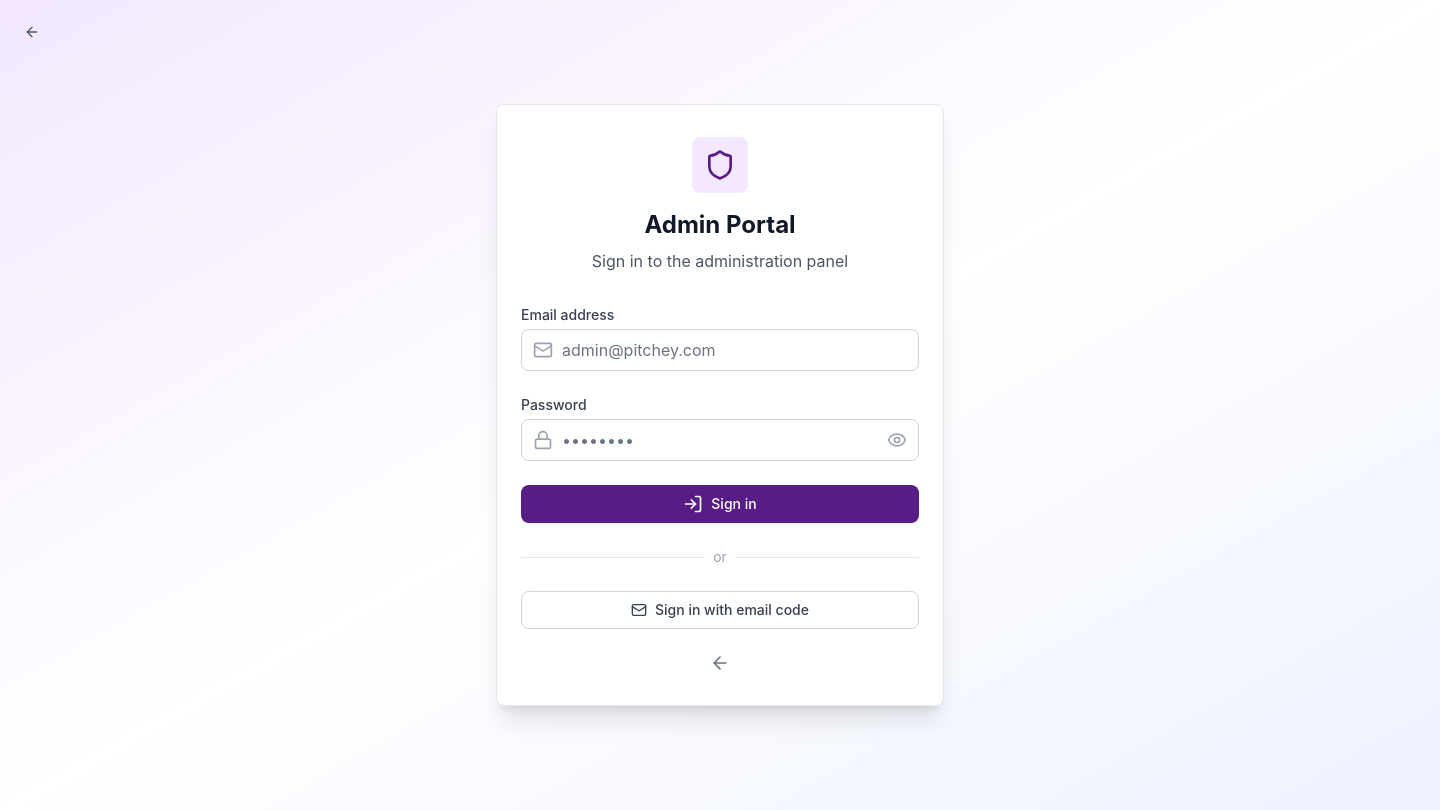
Test: AdminLogin › Error display › displays auth error set locally (non-admin rejection)
In the field labelled "Email address": (720, 350) [521,329,919,371], type "prod@example.com"
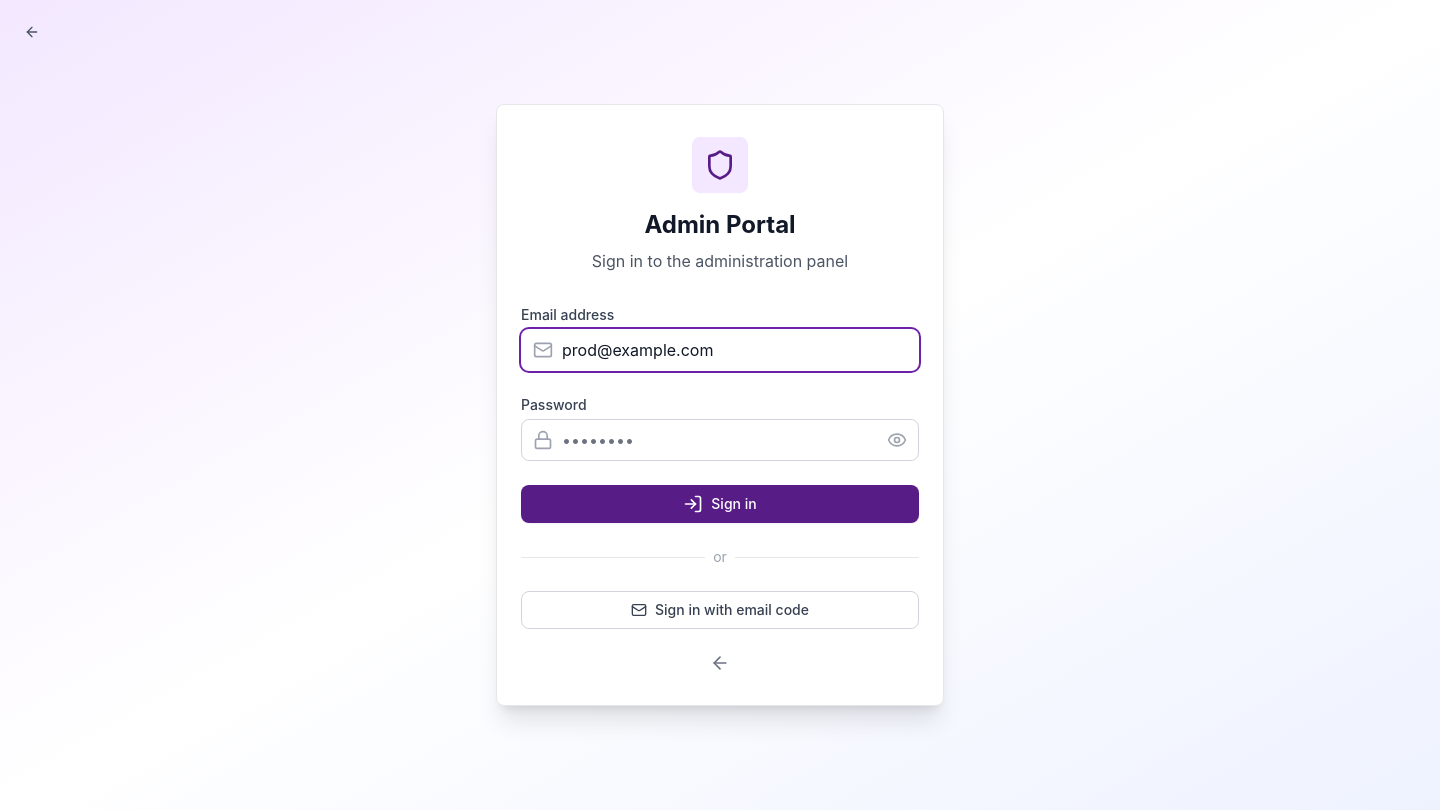
In the password field labelled "Password": (720, 440) [521,419,919,461], type "password"
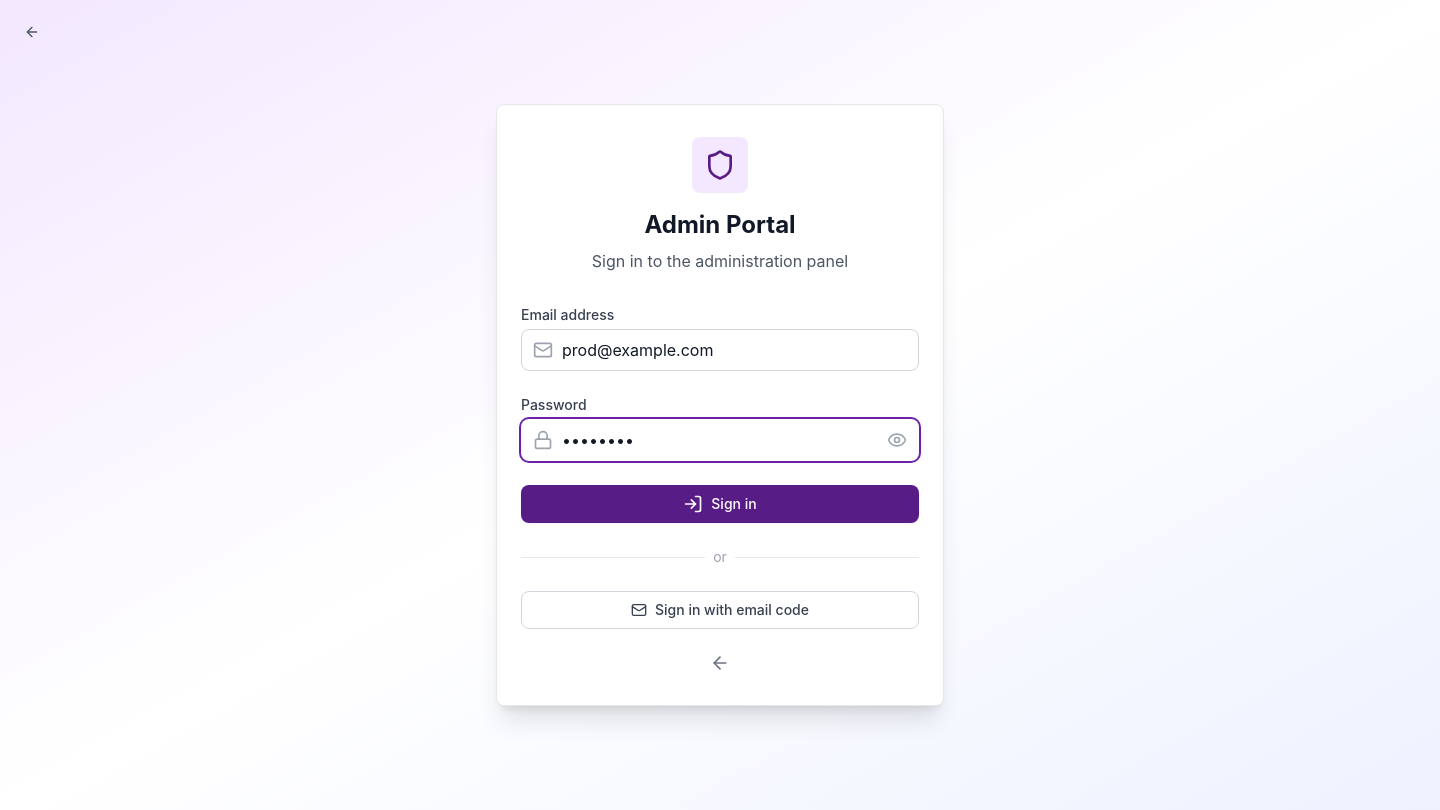
Click the button "Sign in": (720, 504) [521,485,919,523]
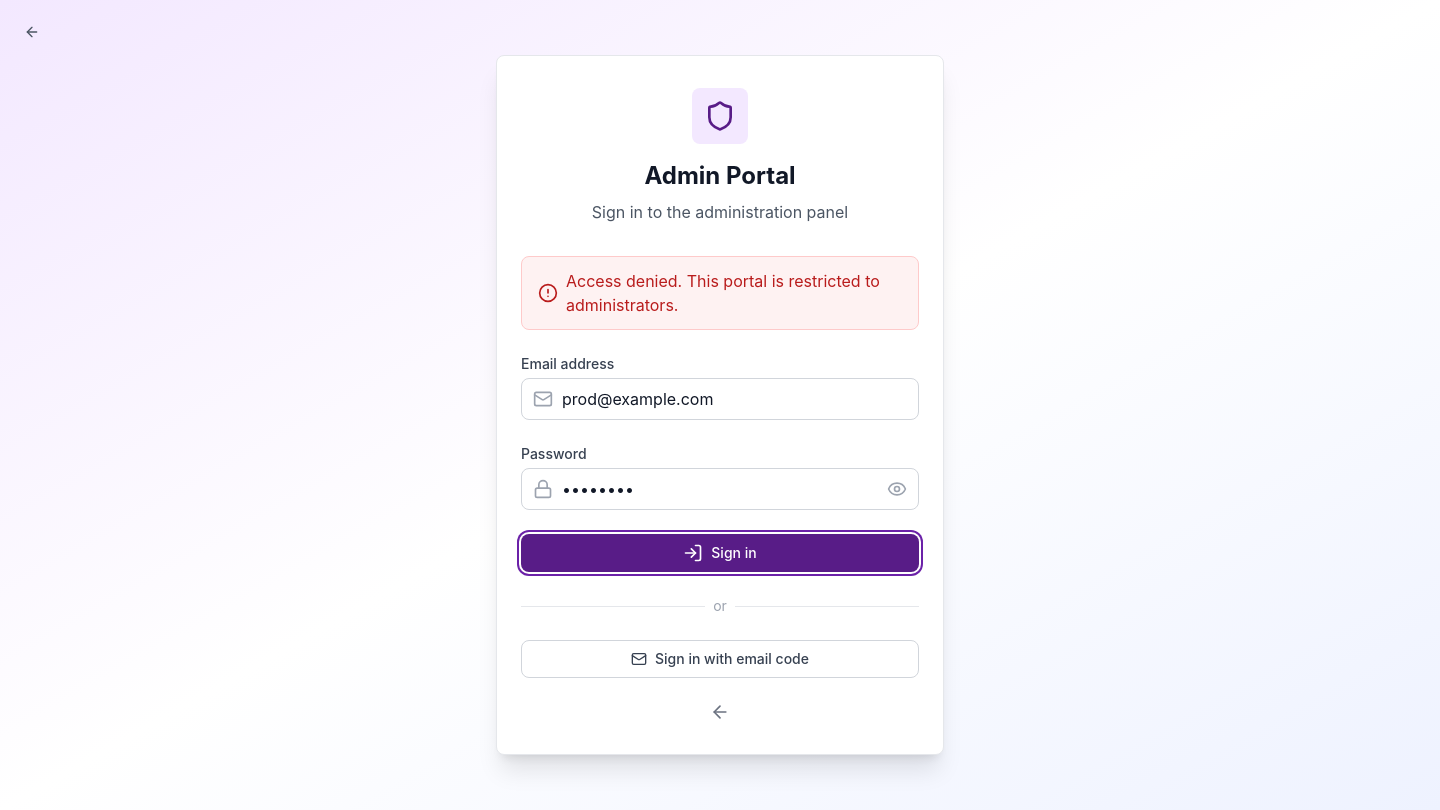
Expected: the text "Access denied. This portal is restricted to administrators." is shown, [521,256,919,330]
